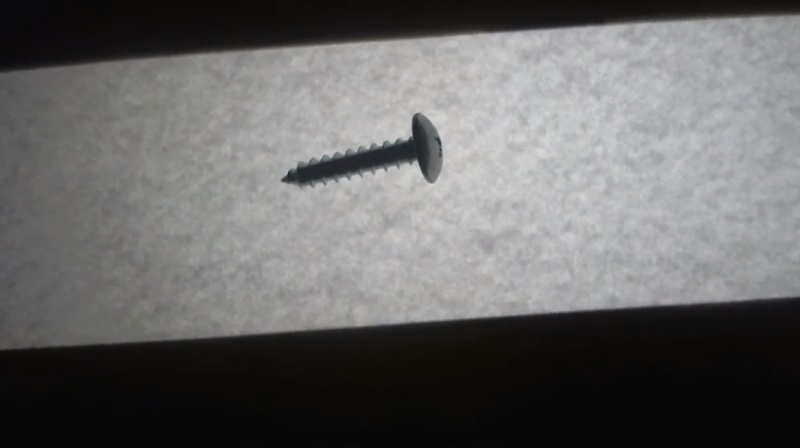S003: (278, 109, 447, 193)
